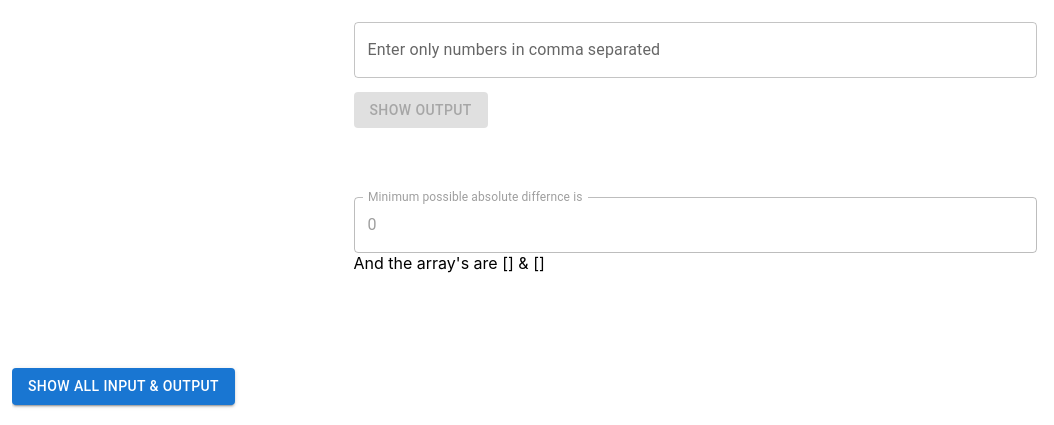
Test: Test Question two Component › Test minimizeArrayAbsSumDifference second array to be filled first
Type "2,5,6,4,32,4" into the field labelled "Enter only numbers in comma separated". click: (695, 50)
box: [354,22,1036,78]
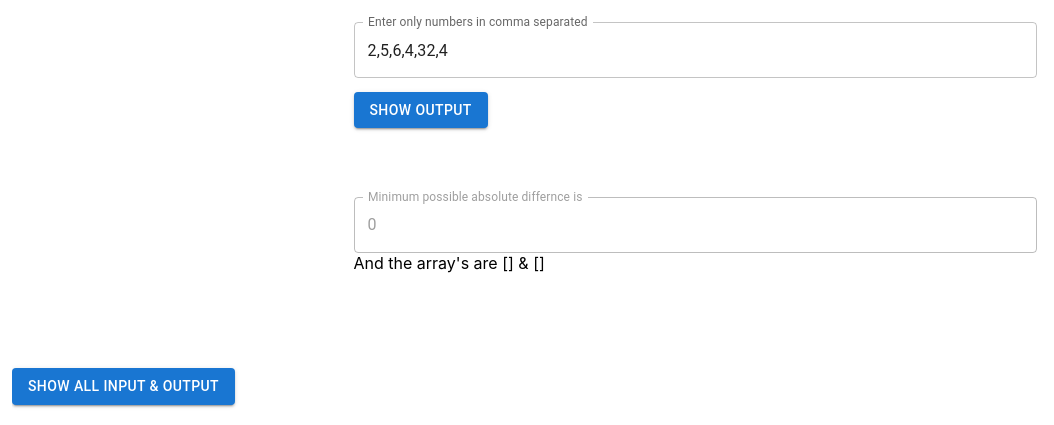
Click the button with test id "show-output". click: (421, 110)
box: [354,92,488,128]
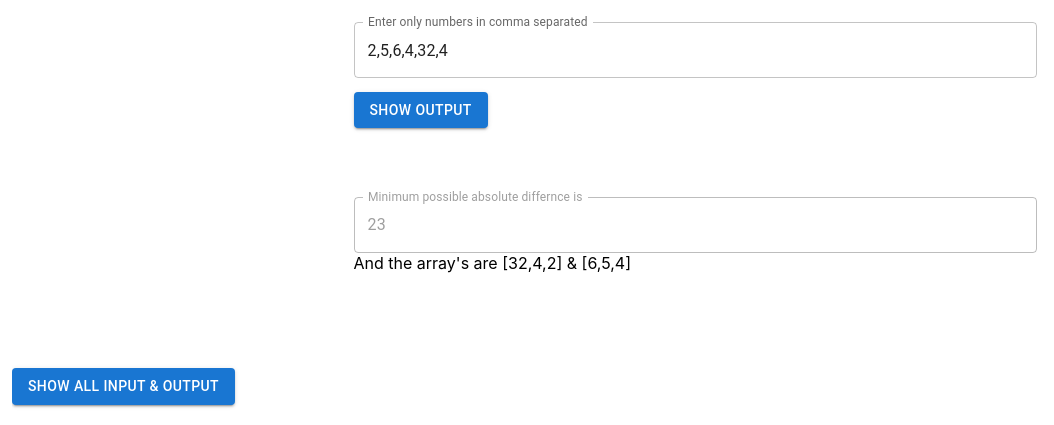
Now the field labelled "Minimum possible absolute differnce is" does not hold "1", box [354,197,1036,253]
